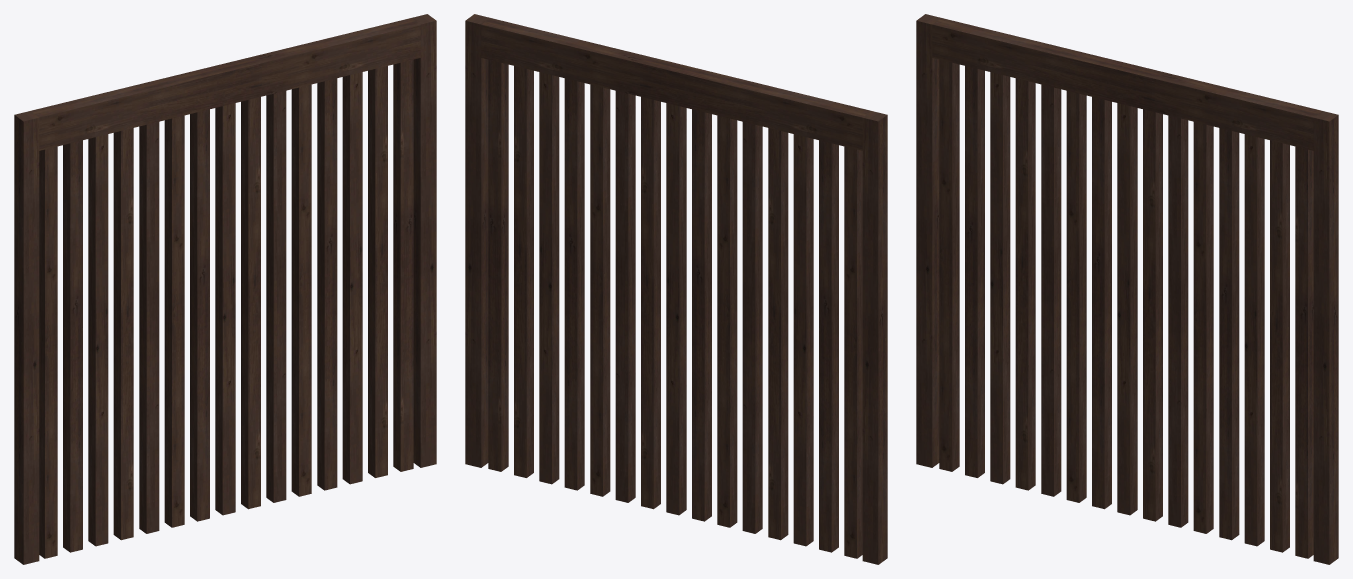
File: es-slit60_h2000_darkpine.fbx
The picture shows the model from 3 angles, left to right: view 1: azimuth 30°, elevation 25°; view 2: azimuth 150°, elevation 25°; view 3: azimuth 330°, elevation 25°; orthographic projection.
Parts seen in each view (by area): view 1: es-slit60_h2000_darkpine; view 2: es-slit60_h2000_darkpine; view 3: es-slit60_h2000_darkpine.
Part boxes in pixels (left/top/right/bottom): es-slit60_h2000_darkpine: left=14, top=14, right=436, bottom=564; es-slit60_h2000_darkpine: left=465, top=14, right=887, bottom=564; es-slit60_h2000_darkpine: left=916, top=14, right=1338, bottom=564.
Bounding box in the file's own units: 195 × 200 × 7.5.
1 material, 1 textured.
